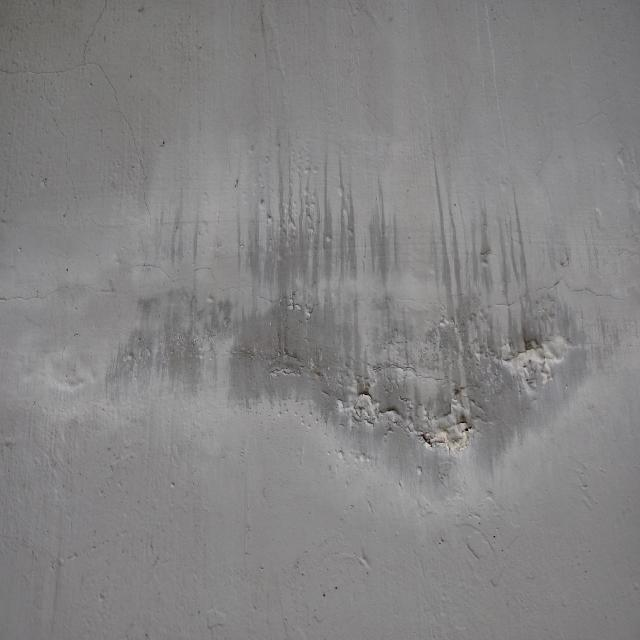SurfaceCrack: (1, 231, 640, 478)
